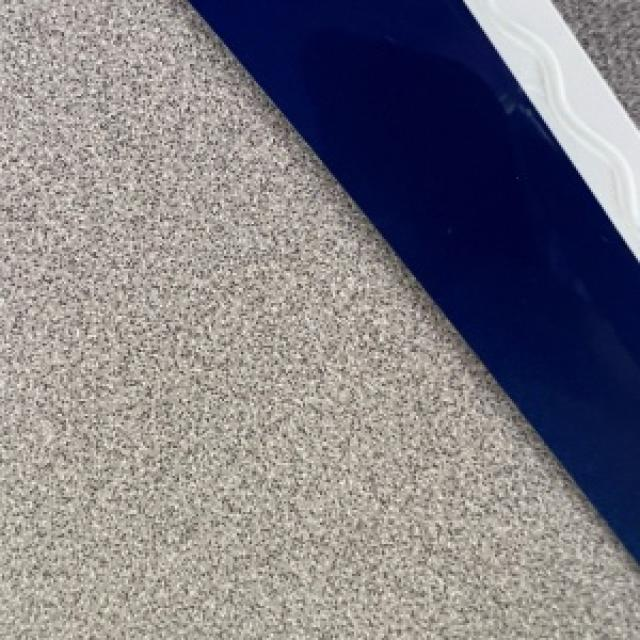healthy: (0, 0, 638, 638), (192, 0, 638, 557)
